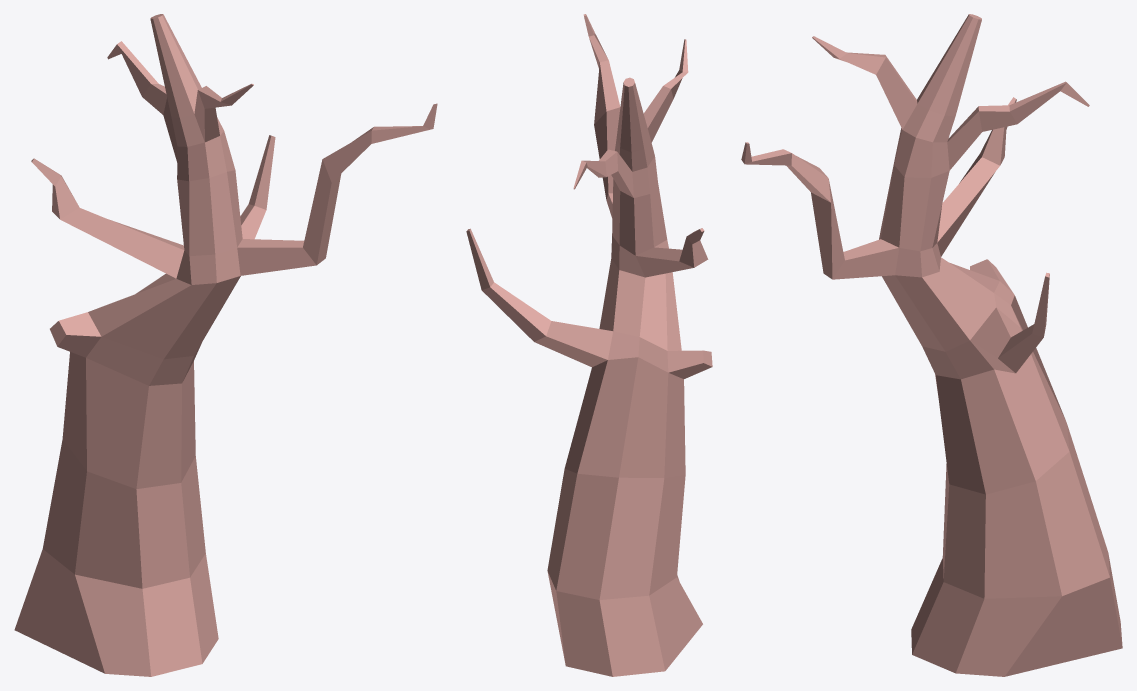
File: ENV_deadtree_color.fbx
3 views of the same model, side by side, from view 1: azimuth 30°, elevation 25°; view 2: azimuth 150°, elevation 25°; view 3: azimuth 270°, elevation 25° (orthographic). The views are drawn at different scales.
Parts seen in each view (by area): view 1: Cylinder; view 2: Cylinder; view 3: Cylinder.
Boxes of the visible parts, x1,y1,x2,y2 form: Cylinder: [14, 14, 437, 676]; Cylinder: [466, 14, 712, 676]; Cylinder: [741, 14, 1122, 676].
Bounding box in the file's own units: 419 × 348 × 768.
